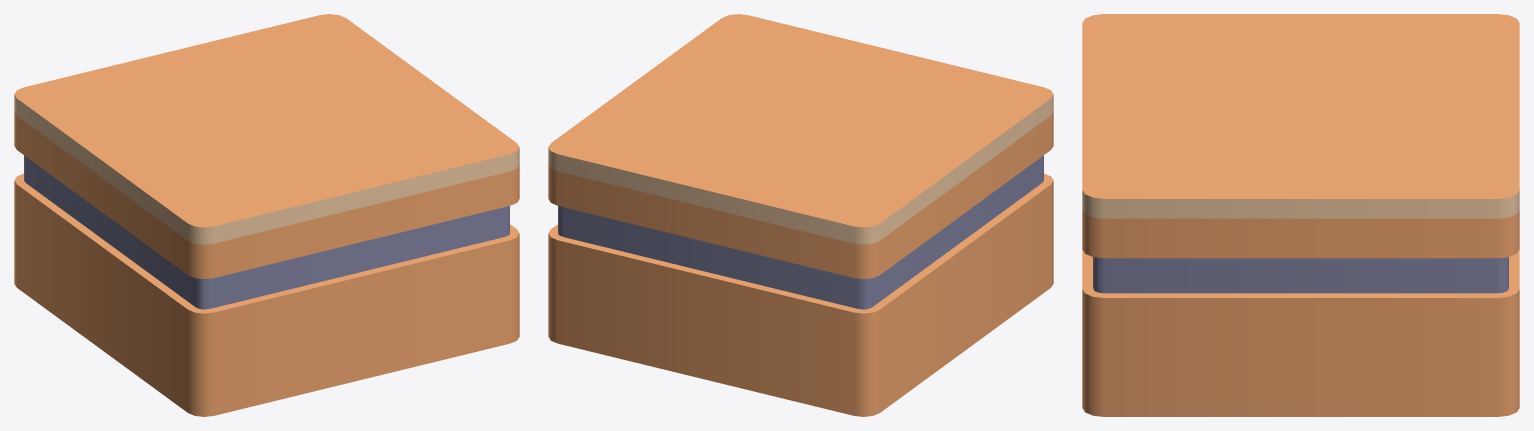
Rendered from planeRounded_2X2.fbx.
The picture shows the model from 3 angles, left to right: view 1: azimuth 30°, elevation 25°; view 2: azimuth 150°, elevation 25°; view 3: azimuth 270°, elevation 25°; orthographic projection. The views are drawn at different scales.
Visible parts, largest first — view 1: planeRounded.2X2, planeRounded.2X2.002, planeRounded.2X2.001; view 2: planeRounded.2X2, planeRounded.2X2.001, planeRounded.2X2.002; view 3: planeRounded.2X2, planeRounded.2X2.001, planeRounded.2X2.002.
Boxes of the visible parts, left/top/right/bottom form: planeRounded.2X2: left=14, top=112, right=519, bottom=416; planeRounded.2X2.002: left=102, top=80, right=519, bottom=244; planeRounded.2X2.001: left=14, top=14, right=430, bottom=177; planeRounded.2X2: left=548, top=112, right=1053, bottom=416; planeRounded.2X2.001: left=548, top=80, right=965, bottom=244; planeRounded.2X2.002: left=637, top=14, right=1053, bottom=177; planeRounded.2X2: left=1082, top=210, right=1519, bottom=416; planeRounded.2X2.001: left=1301, top=14, right=1519, bottom=218; planeRounded.2X2.002: left=1082, top=14, right=1300, bottom=218.
Bounding box in the file's own units: 200 × 110 × 200.
